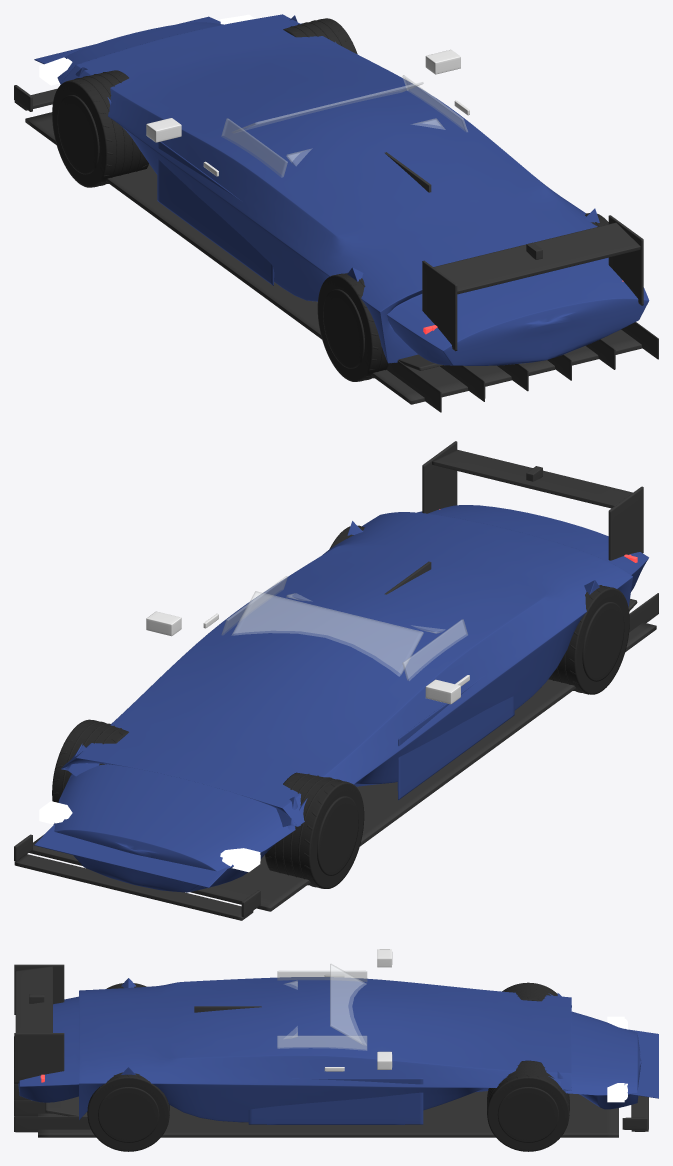
File: vehicle.opt.glb
3 views of the same model, one above another, from view 1: azimuth 30°, elevation 25°; view 2: azimuth 150°, elevation 25°; view 3: azimuth 270°, elevation 25° (orthographic). The views are drawn at different scales.
Visible parts, largest first — view 1: BODY_MainShell, UNDERBODY_FlatFloor, AERO_RB9_RearWingDRS, WHEEL_FL_Tire, WHEEL_RL_Tire, BODY_Door_FL, GLASS_Greenhouse, JEWELRY_Hardware, WHEEL_FR_Tire, LIGHTING_Headlamps, AERO_FrontSplitter; view 2: BODY_MainShell, UNDERBODY_FlatFloor, GLASS_Greenhouse, AERO_RB9_RearWingDRS, WHEEL_FL_Tire, WHEEL_RL_Tire, BODY_Door_FL, AERO_FrontSplitter, BODY_Hood, WHEEL_FR_Tire, JEWELRY_Hardware, LIGHTING_Headlamps; view 3: BODY_MainShell, UNDERBODY_FlatFloor, WHEEL_FR_Tire, AERO_RB9_RearWingDRS, WHEEL_RR_Tire, BODY_Door_FR, GLASS_Greenhouse, BODY_Hood, JEWELRY_Hardware, AERO_FrontSplitter, WHEEL_FL_Tire, LIGHTING_Headlamps.
Part boxes in pixels (left/top/right/bottom): BODY_MainShell: left=57, top=14, right=649, bottom=365; UNDERBODY_FlatFloor: left=25, top=112, right=658, bottom=412; AERO_RB9_RearWingDRS: left=422, top=215, right=643, bottom=351; WHEEL_FL_Tire: left=52, top=70, right=148, bottom=187; WHEEL_RL_Tire: left=317, top=273, right=388, bottom=381; BODY_Door_FL: left=157, top=141, right=274, bottom=285; GLASS_Greenhouse: left=221, top=75, right=467, bottom=177; JEWELRY_Hardware: left=146, top=49, right=469, bottom=176; WHEEL_FR_Tire: left=283, top=18, right=357, bottom=54; LIGHTING_Headlamps: left=39, top=14, right=254, bottom=85; AERO_FrontSplitter: left=14, top=85, right=57, bottom=111; BODY_MainShell: left=53, top=505, right=648, bottom=892; UNDERBODY_FlatFloor: left=29, top=593, right=658, bottom=911; GLASS_Greenhouse: left=221, top=576, right=467, bottom=680; AERO_RB9_RearWingDRS: left=422, top=441, right=643, bottom=560; WHEEL_FL_Tire: left=265, top=772, right=364, bottom=888; WHEEL_RL_Tire: left=548, top=585, right=629, bottom=694; BODY_Door_FL: left=397, top=676, right=514, bottom=800; AERO_FrontSplitter: left=14, top=834, right=260, bottom=920; BODY_Hood: left=34, top=824, right=229, bottom=887; WHEEL_FR_Tire: left=52, top=719, right=128, bottom=802; JEWELRY_Hardware: left=146, top=611, right=469, bottom=704; LIGHTING_Headlamps: left=39, top=801, right=260, bottom=872; BODY_MainShell: left=18, top=977, right=641, bottom=1122; UNDERBODY_FlatFloor: left=14, top=1036, right=618, bottom=1137; WHEEL_FR_Tire: left=487, top=1060, right=569, bottom=1151; AERO_RB9_RearWingDRS: left=14, top=964, right=64, bottom=1083; WHEEL_RR_Tire: left=87, top=1072, right=169, bottom=1151; BODY_Door_FR: left=248, top=1078, right=423, bottom=1124; GLASS_Greenhouse: left=277, top=964, right=367, bottom=1050; BODY_Hood: left=628, top=1029, right=658, bottom=1098; JEWELRY_Hardware: left=324, top=949, right=392, bottom=1071; AERO_FrontSplitter: left=622, top=1096, right=648, bottom=1131; WHEEL_FL_Tire: left=502, top=982, right=557, bottom=1001; LIGHTING_Headlamps: left=607, top=1016, right=627, bottom=1102.
Size of what is drawn, in the model's own units: 2.12 by 0.9774 by 5.16.
